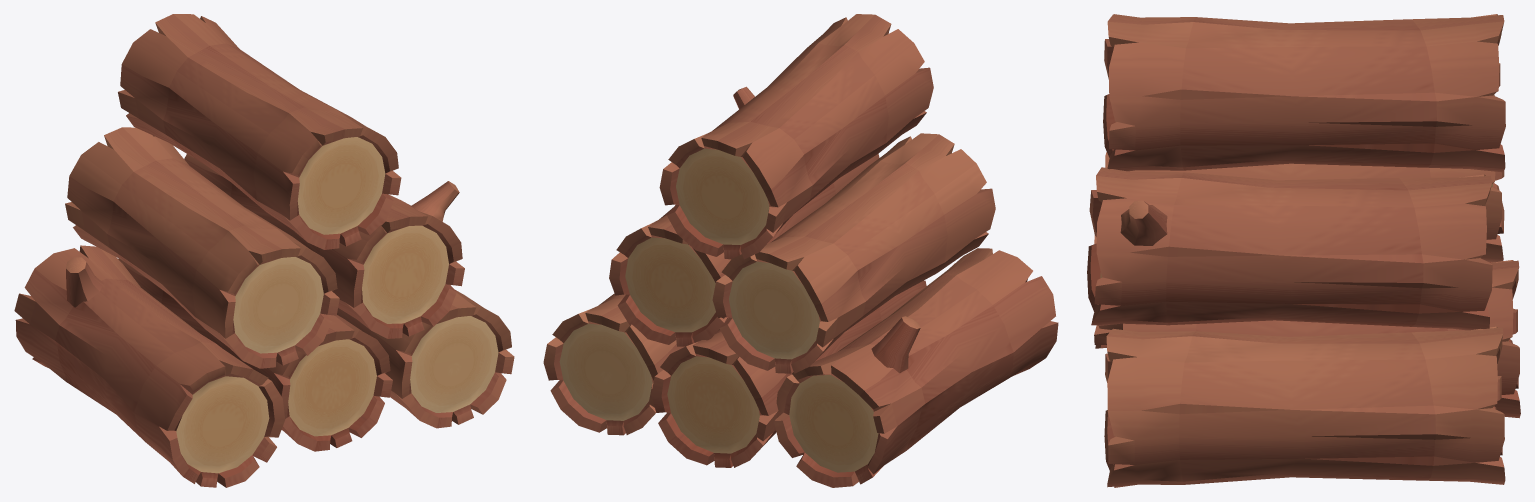
Rendered from wood-log-stack.glb.
3 views of the same model, side by side, from view 1: azimuth 30°, elevation 25°; view 2: azimuth 150°, elevation 25°; view 3: azimuth 270°, elevation 25° (orthographic). The views are drawn at different scales.
Visible parts, largest first — view 1: Wood_Log_Stack; view 2: Wood_Log_Stack; view 3: Wood_Log_Stack.
Part boxes in pixels (x1,y1,x2,y2): Wood_Log_Stack: [14, 14, 514, 487]; Wood_Log_Stack: [543, 14, 1058, 487]; Wood_Log_Stack: [1087, 14, 1520, 487].
Size of the model in its own units: 1.68 by 1.5 by 1.5.
Materials: 1 (1 with a texture image).
